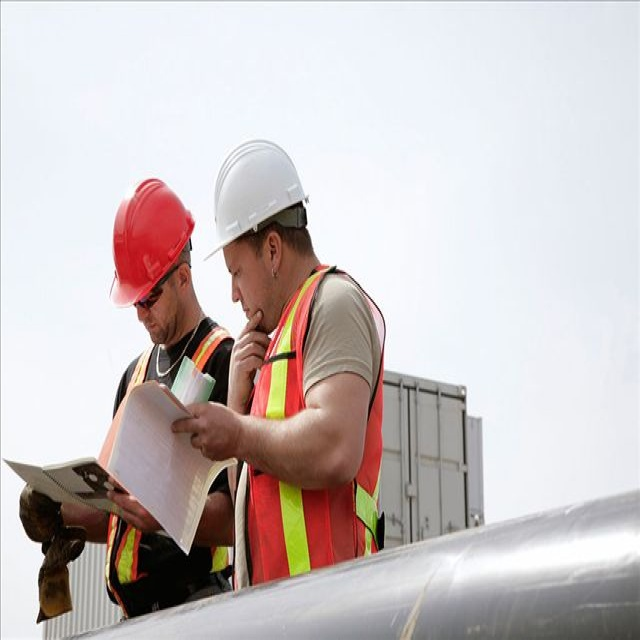Helmet: (196, 125, 328, 341), (99, 162, 207, 373)
Reflective vest: (238, 264, 392, 594)
